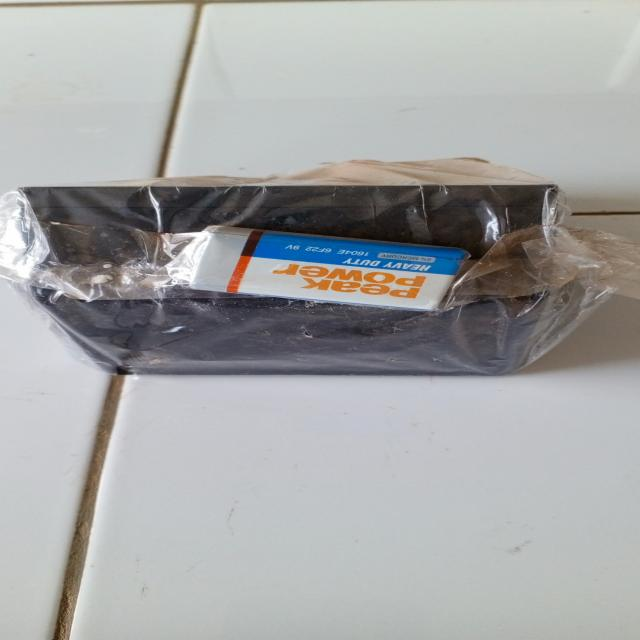Digital Voltmeter 0-20V: (14, 174, 584, 384)
